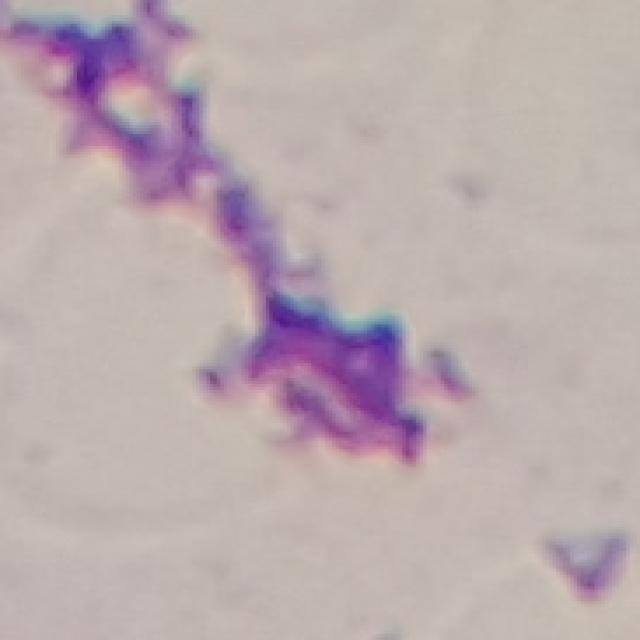non-sperm: (187, 289, 468, 471)
